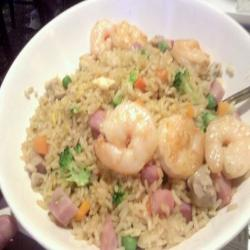rice: (35, 20, 211, 225)
